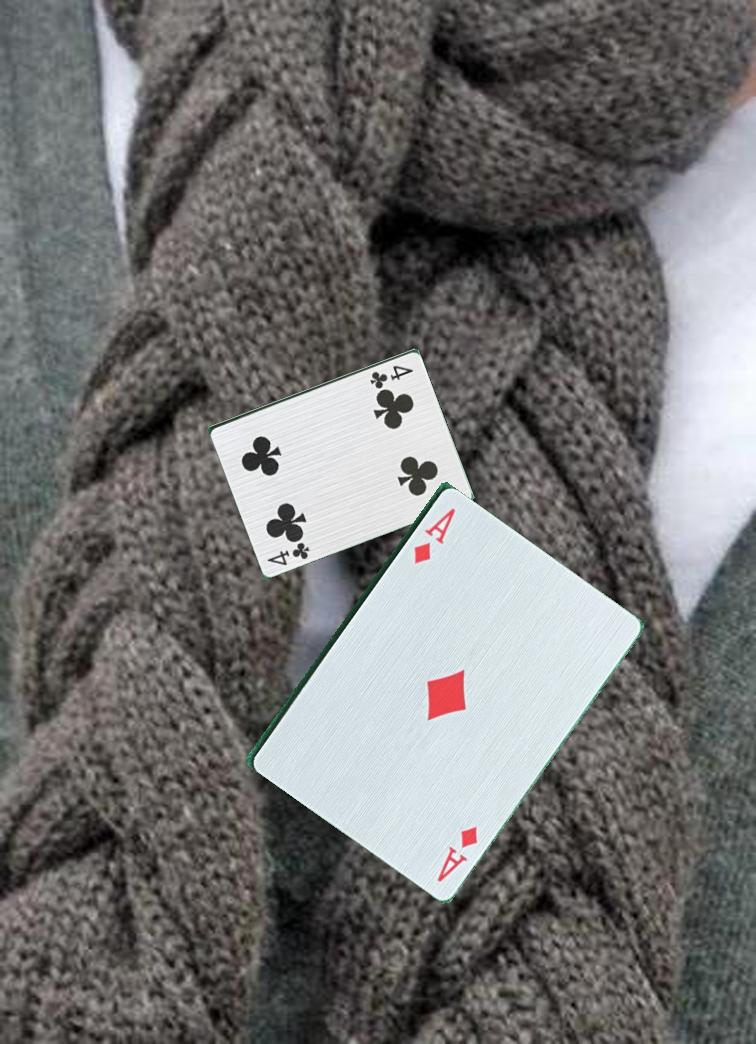4c: (364, 361, 416, 390), (264, 538, 313, 568)
ad: (396, 500, 463, 569), (433, 822, 481, 887)
